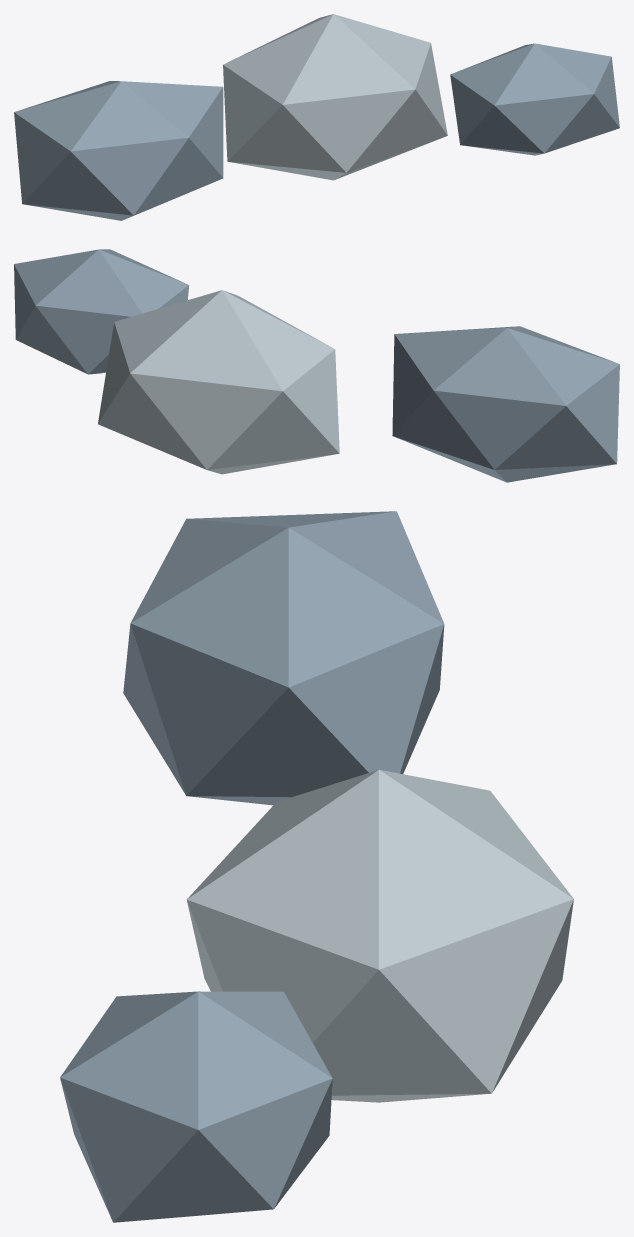
The model's file is Rock_Rubble.fbx.
3 renders of one model, top to bottom at view 1: azimuth 30°, elevation 25°; view 2: azimuth 150°, elevation 25°; view 3: azimuth 270°, elevation 25°, orthographic. The views are drawn at different scales.
Parts seen in each view (by area): view 1: Loose rubble 1, Loose rubble 0, Loose rubble 2; view 2: Loose rubble 1, Loose rubble 0, Loose rubble 2; view 3: Loose rubble 1, Loose rubble 0, Loose rubble 2.
Part boxes in pixels (<box>): Loose rubble 1: <box>223,14,447,180</box>; Loose rubble 0: <box>14,81,223,220</box>; Loose rubble 2: <box>450,43,619,155</box>; Loose rubble 1: <box>98,290,339,474</box>; Loose rubble 0: <box>392,326,619,482</box>; Loose rubble 2: <box>14,249,189,374</box>; Loose rubble 1: <box>186,769,573,1102</box>; Loose rubble 0: <box>123,511,444,805</box>; Loose rubble 2: <box>60,991,332,1222</box>.
Size of the model in its own units: 435 by 127 by 171.
